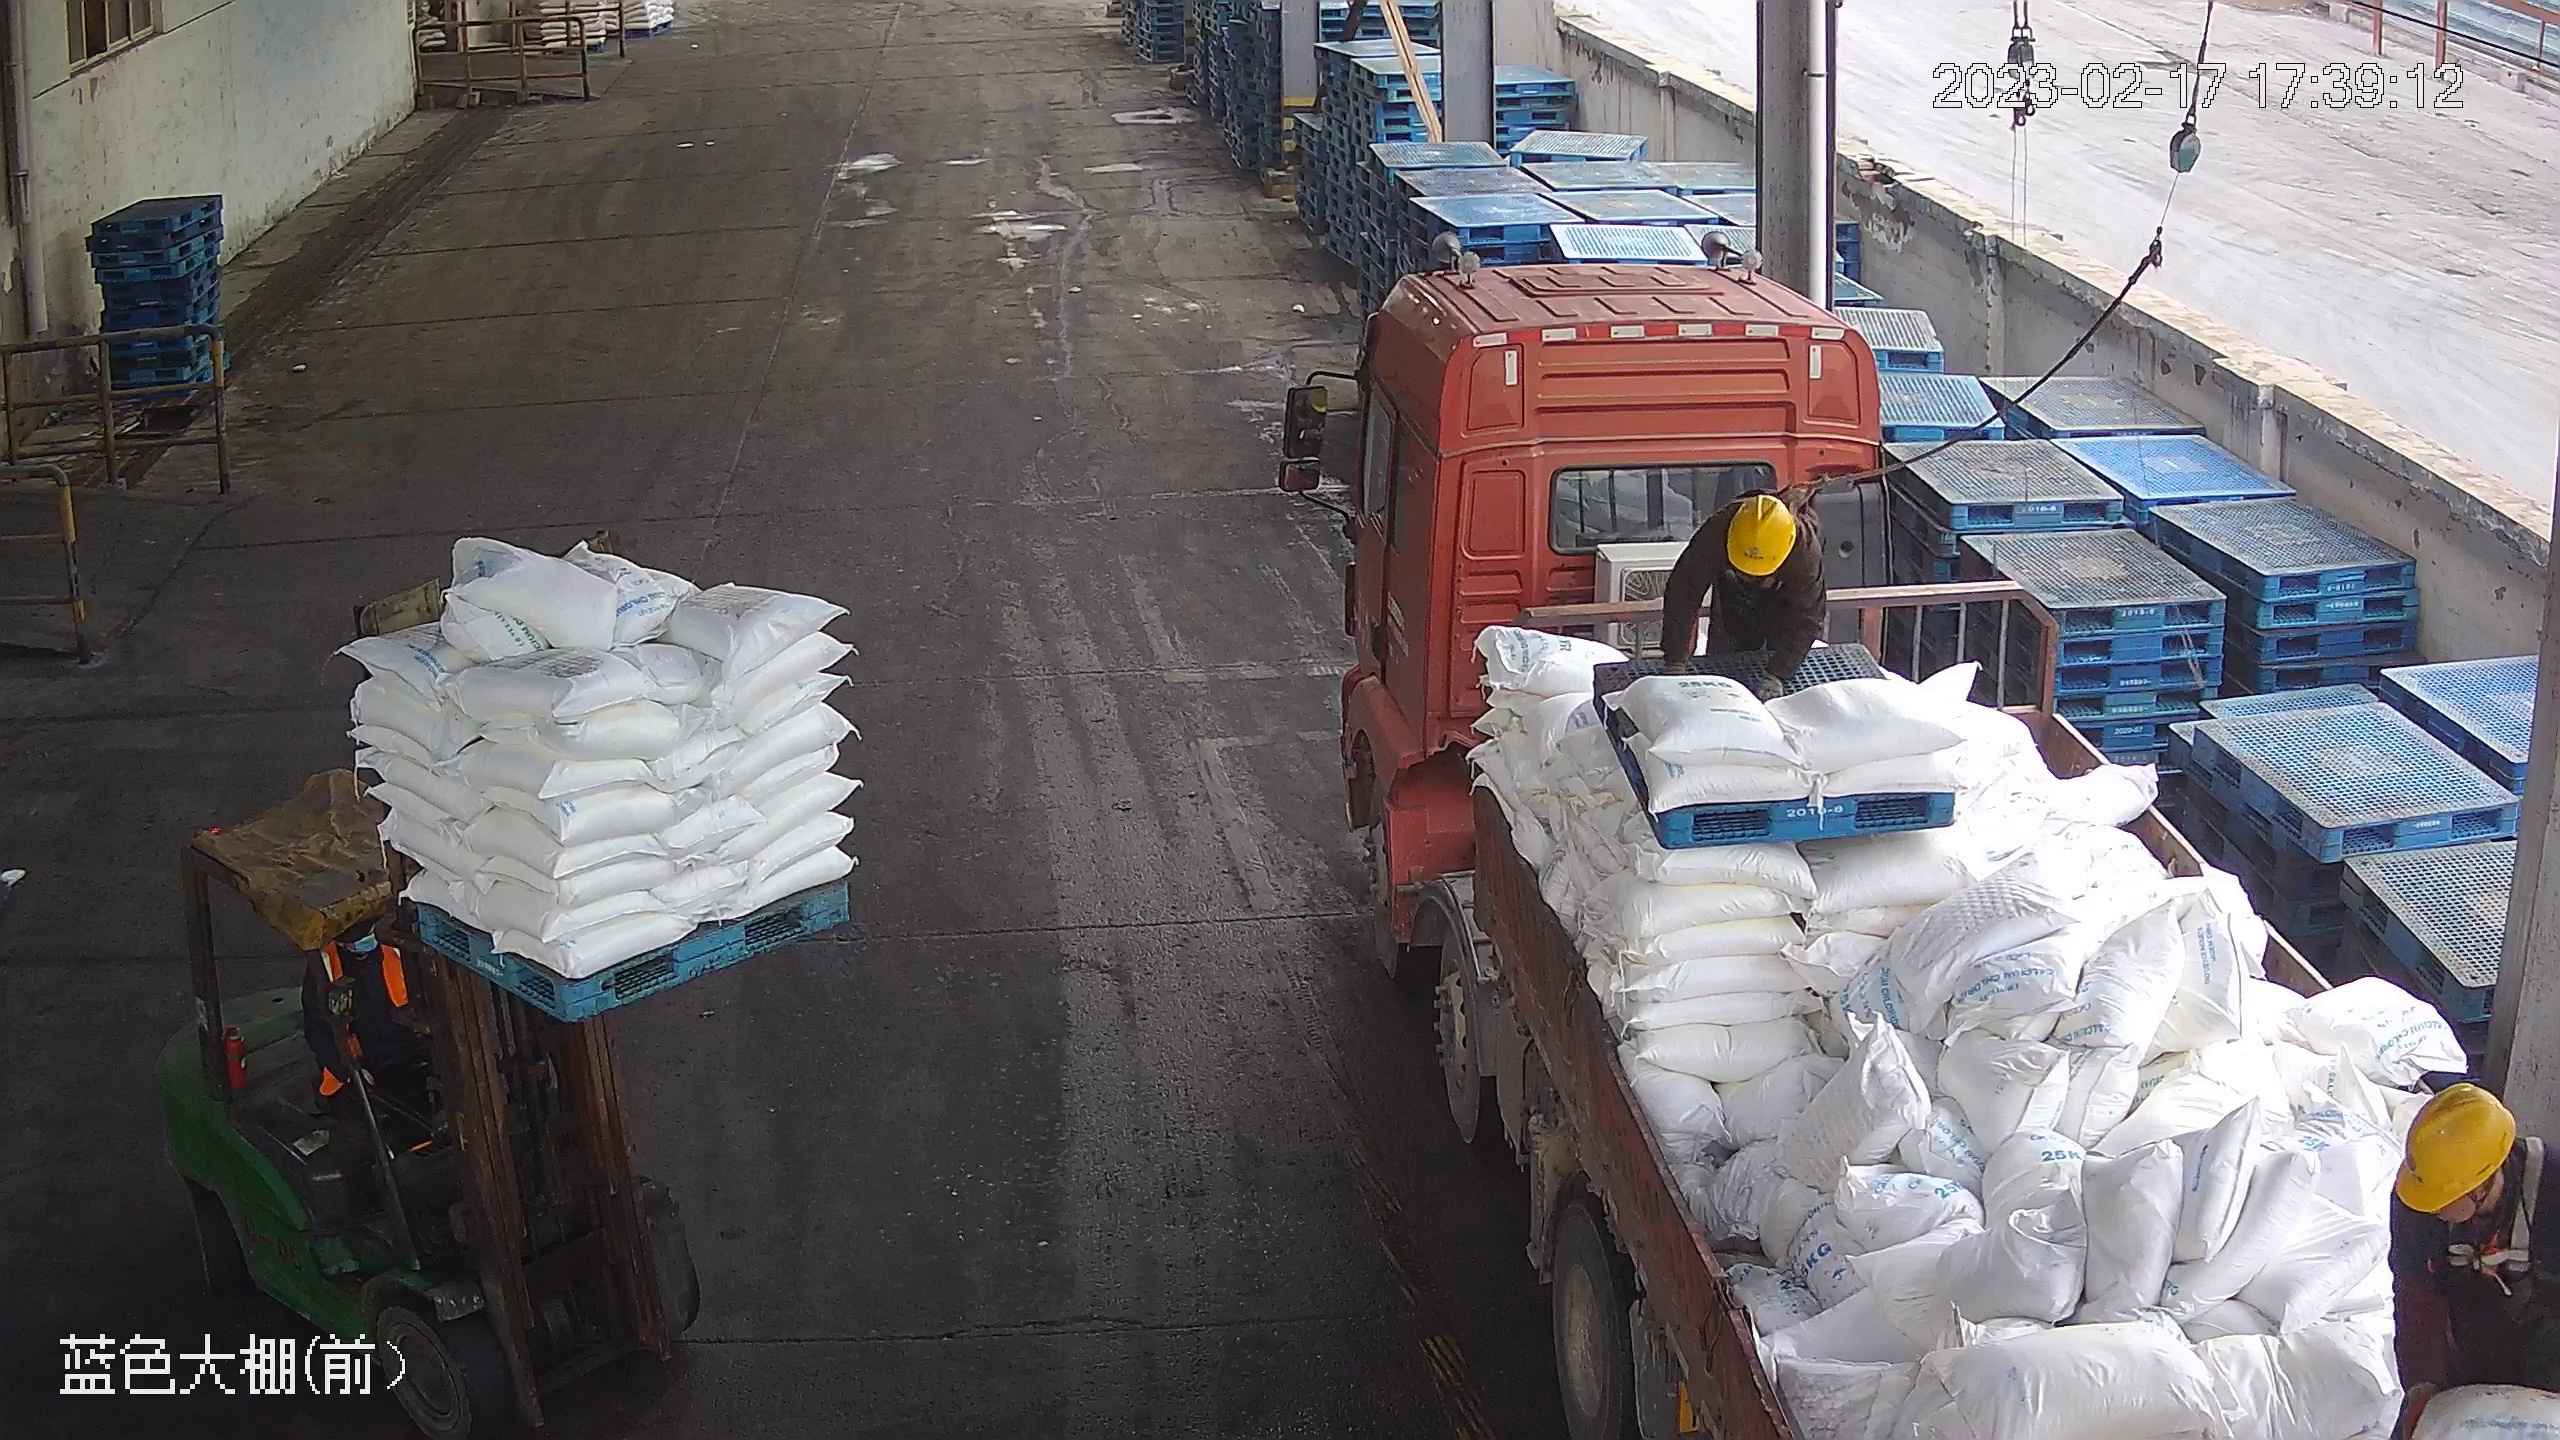belt: (2446, 1142, 2552, 1288), (1747, 474, 1858, 555)
head: (2384, 1082, 2560, 1281), (1678, 487, 1816, 604)
helmet: (2390, 1079, 2516, 1213), (1724, 487, 1807, 579)
people: (2378, 1079, 2558, 1434), (1651, 486, 1826, 702)
truck: (1278, 228, 2552, 1440)
